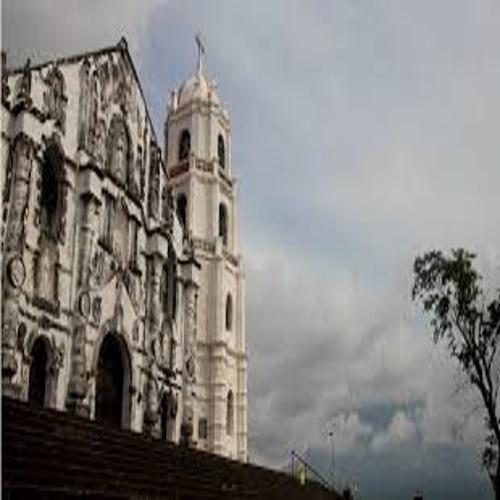Daraga Church: (4, 22, 252, 468)
